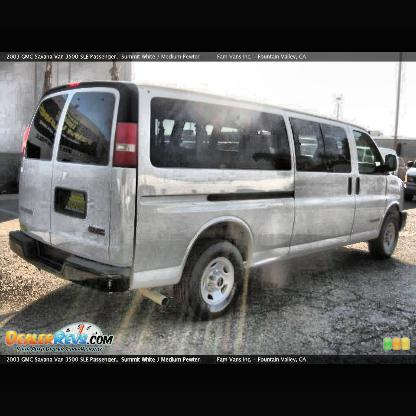GMC Savana Van 2012: (8, 81, 408, 321)
